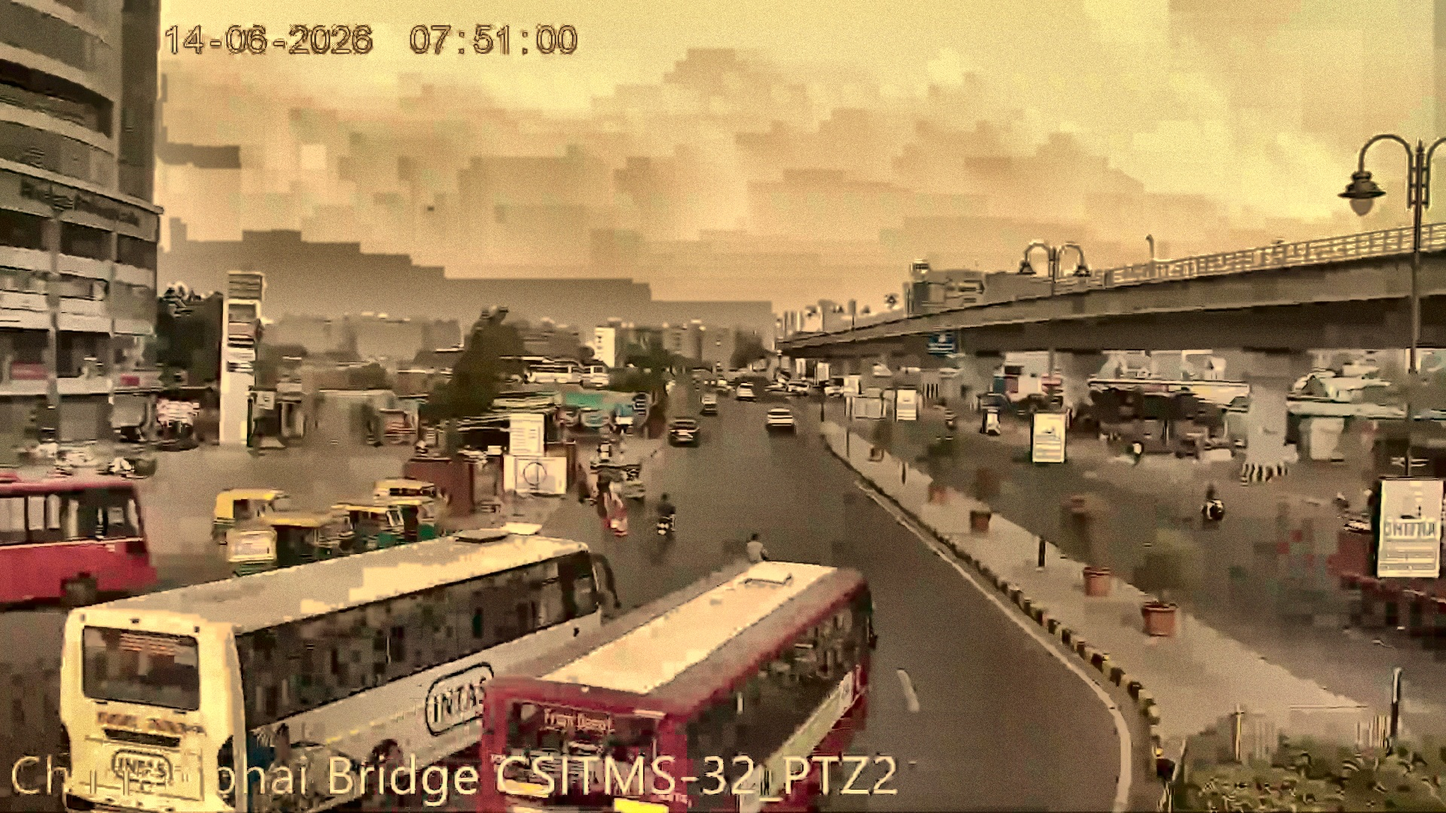auto_rickshaw: (667, 415, 702, 446), (765, 401, 797, 432)
bus: (54, 535, 619, 794), (0, 463, 161, 597)
